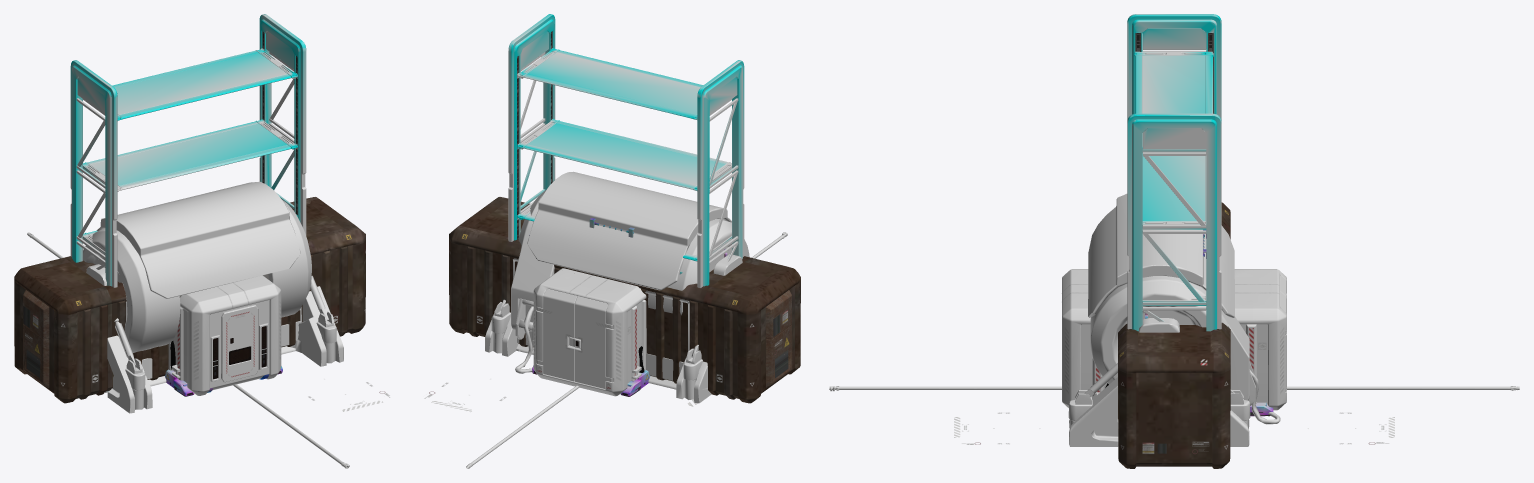
Rendered from deko.glb.
3 renders of one model, left to right at view 1: azimuth 30°, elevation 25°; view 2: azimuth 150°, elevation 25°; view 3: azimuth 270°, elevation 25°, orthographic. The views are drawn at different scales.
Parts seen in each view (by area): view 1: prop_schlauch_hose_reel_1_065x045x045_a, prop_regal_storage_rack_1_02x0575x08_a, prop_fracht_hurston_freight_container_a, prop_fracht_shipping_container_1_025x05x025_a, prop_treibstoff_tank_gas_3_05x025x025_a, prop_schlauch_maintenance_hose_1_a; view 2: prop_regal_storage_rack_1_02x0575x08_a, prop_fracht_hurston_freight_container_a, prop_schlauch_hose_reel_1_065x045x045_a, prop_fracht_shipping_container_1_025x05x025_a, prop_treibstoff_tank_gas_3_05x025x025_a, prop_schlauch_maintenance_hose_1_a; view 3: prop_regal_storage_rack_1_02x0575x08_a, prop_schlauch_hose_reel_1_065x045x045_a, prop_fracht_hurston_freight_container_a, prop_fracht_shipping_container_1_025x05x025_a, prop_schlauch_maintenance_hose_1_a.
Part boxes in pixels (x1,y1,x2,y2): prop_schlauch_hose_reel_1_065x045x045_a: (83, 181, 343, 413); prop_regal_storage_rack_1_02x0575x08_a: (70, 14, 306, 392); prop_fracht_hurston_freight_container_a: (14, 197, 365, 403); prop_fracht_shipping_container_1_025x05x025_a: (168, 275, 281, 395); prop_treibstoff_tank_gas_3_05x025x025_a: (126, 302, 301, 386); prop_schlauch_maintenance_hose_1_a: (27, 232, 349, 468); prop_regal_storage_rack_1_02x0575x08_a: (508, 14, 744, 287); prop_fracht_hurston_freight_container_a: (449, 197, 800, 403); prop_schlauch_hose_reel_1_065x045x045_a: (485, 171, 749, 403); prop_fracht_shipping_container_1_025x05x025_a: (533, 268, 646, 396); prop_treibstoff_tank_gas_3_05x025x025_a: (513, 258, 689, 389); prop_schlauch_maintenance_hose_1_a: (466, 232, 787, 468); prop_regal_storage_rack_1_02x0575x08_a: (1127, 14, 1221, 331); prop_schlauch_hose_reel_1_065x045x045_a: (1068, 194, 1280, 446); prop_fracht_hurston_freight_container_a: (1118, 202, 1230, 468); prop_fracht_shipping_container_1_025x05x025_a: (1062, 269, 1286, 410); prop_schlauch_maintenance_hose_1_a: (829, 386, 1519, 391).
Size of the model in its own units: 8.65 by 7.99 by 15.32.
Materials: 121 (113 with a texture image).
